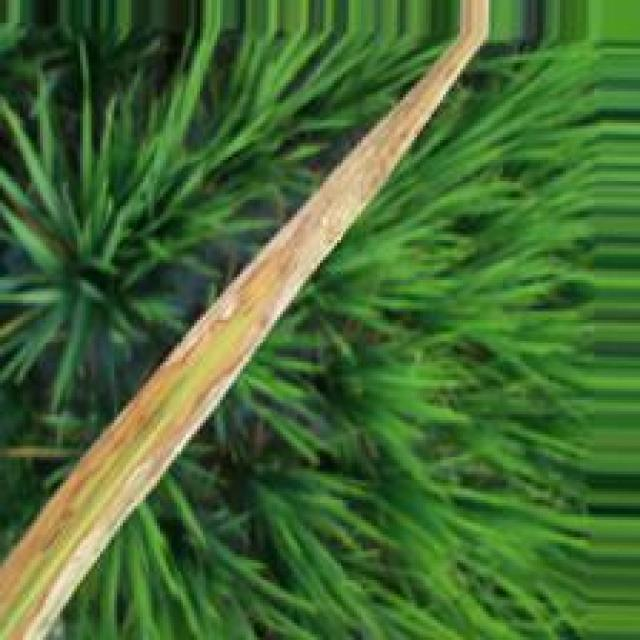Bacterial_Leaf_Blight: (0, 1, 492, 640)
